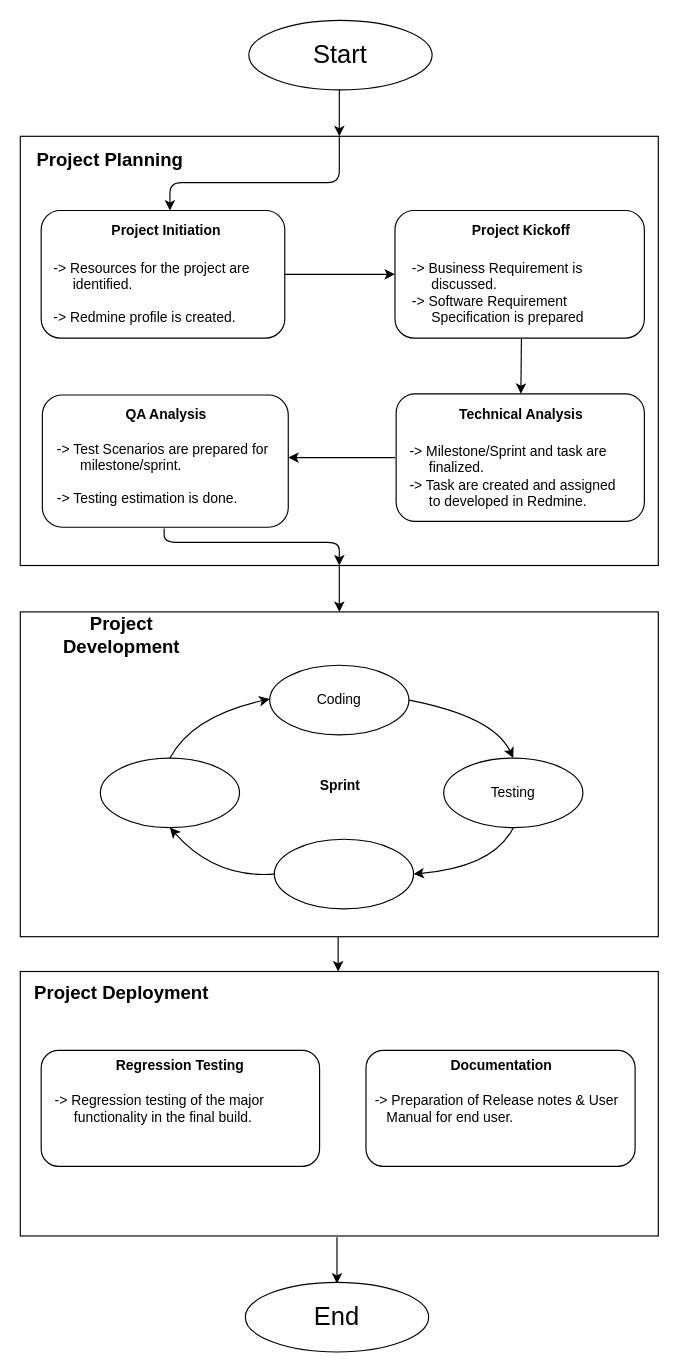
The diagram is 679 pixels wide and 1372 high, and some of its shapes have lost their labels. Each missing label, with the box of its shape:
Feedback: (273, 838, 414, 909)
Redesign: (99, 757, 240, 828)
